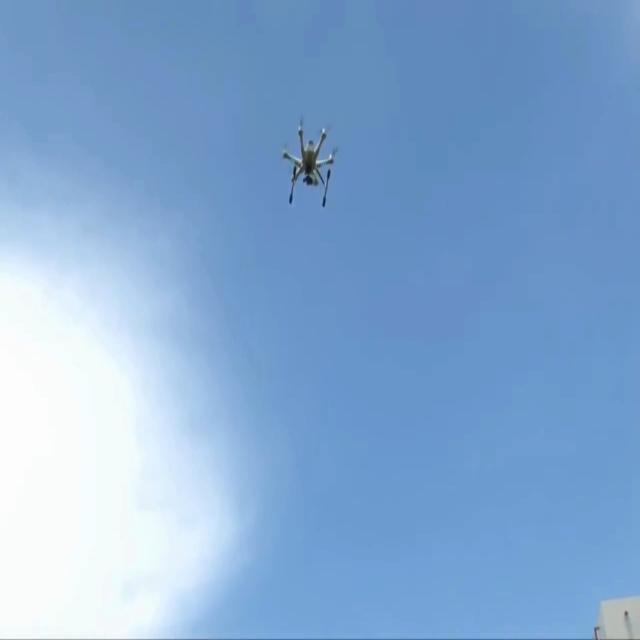drone: (282, 115, 338, 208)
